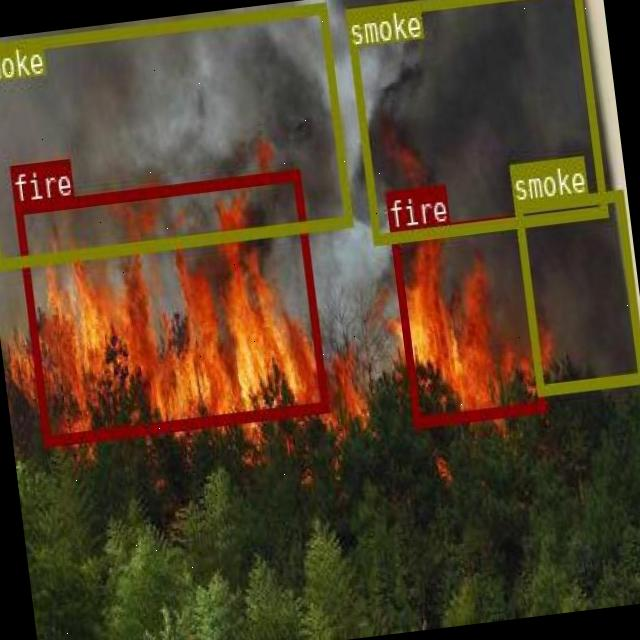fire: (14, 168, 328, 446), (390, 212, 544, 426)
smoke: (0, 0, 350, 267), (344, 0, 606, 243), (513, 188, 640, 394)
